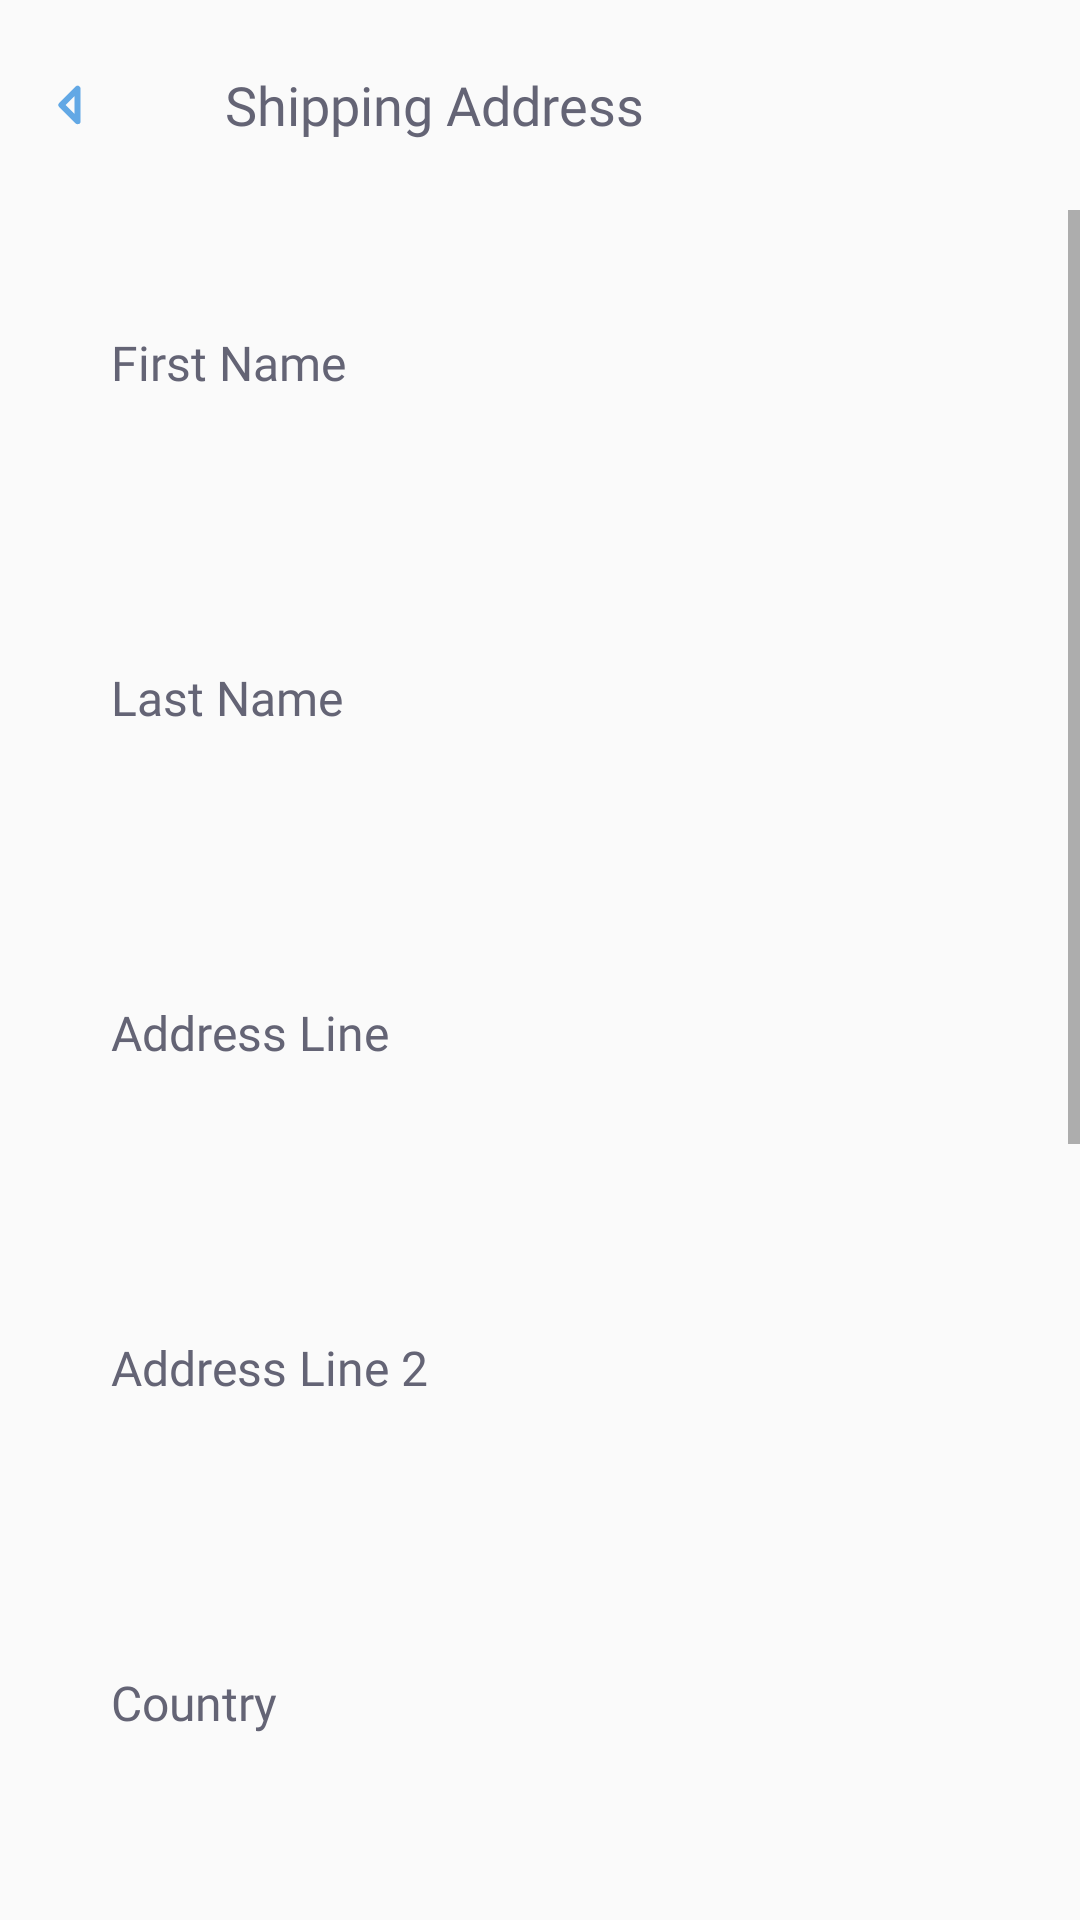

Where to tap for icons on this 1080px×1920px app screen, as (x,y):
backbtn: (69,105)
